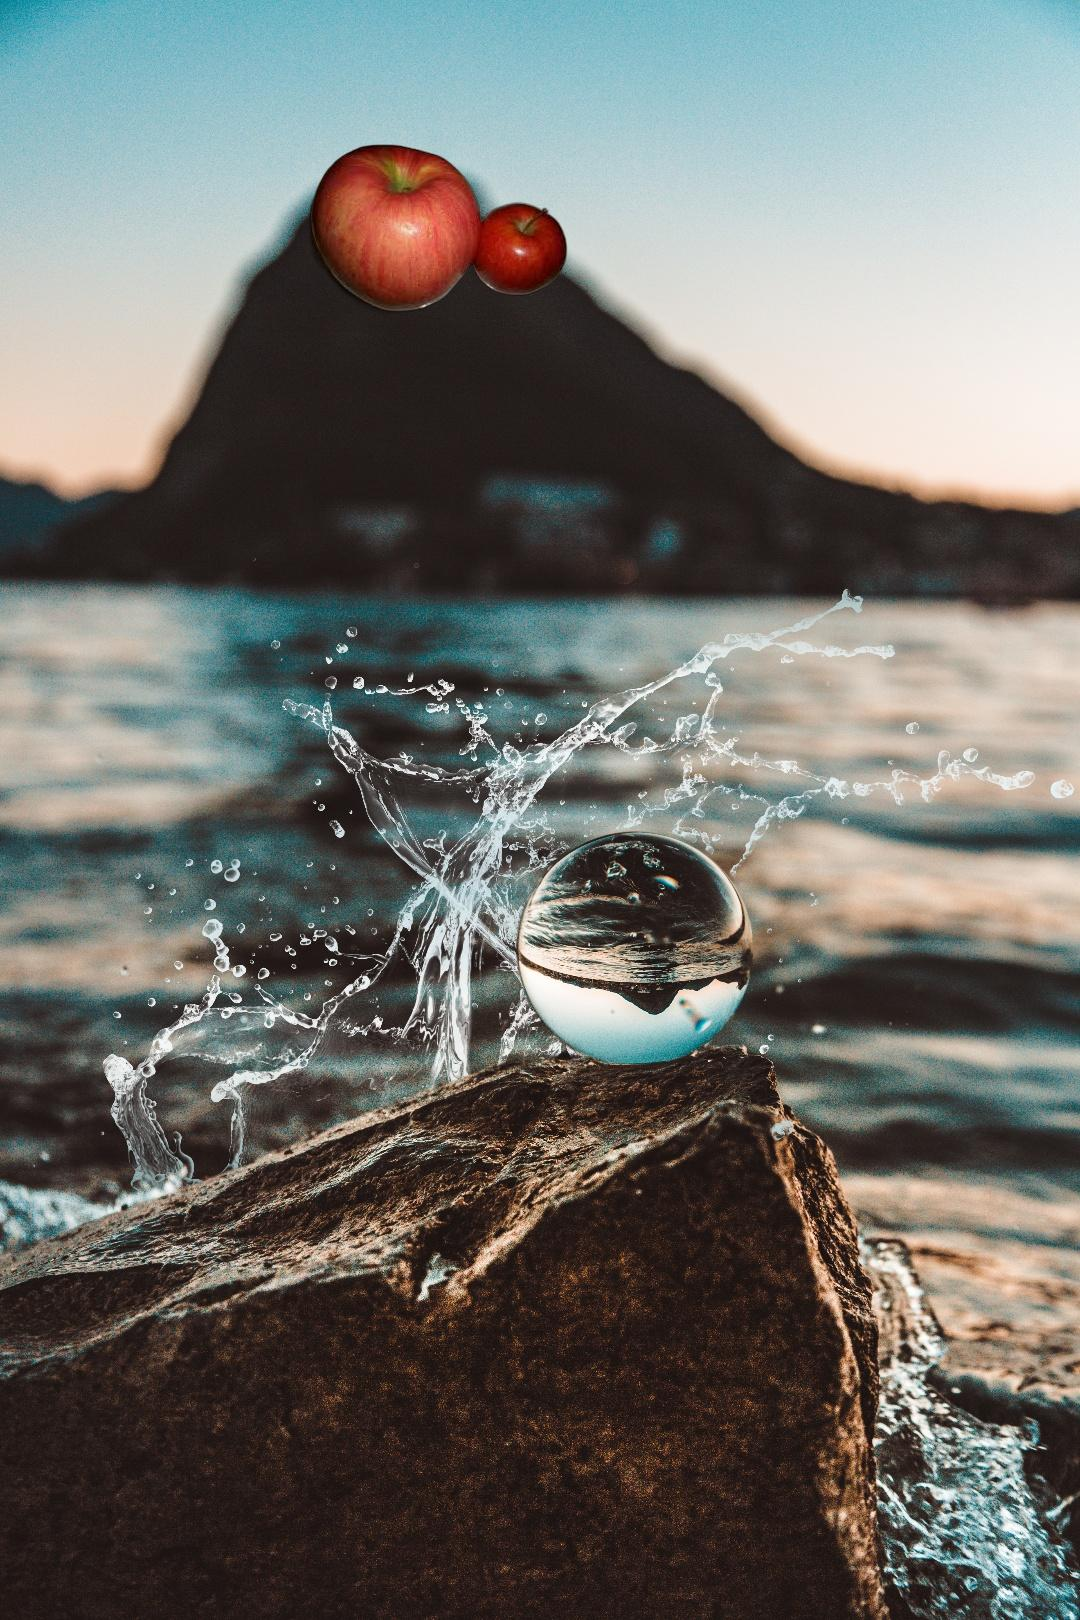biological: (307, 142, 568, 316)
